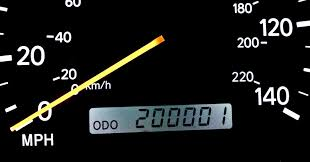Digital_Meter: (87, 104, 230, 132)
